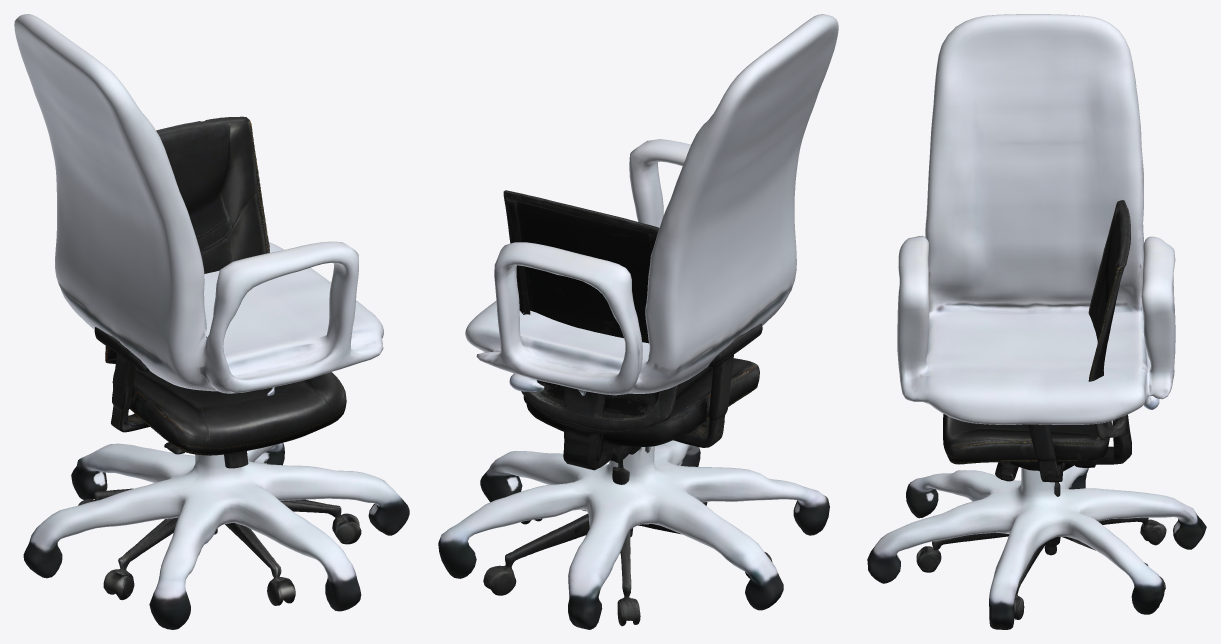
Rendered from image1.glb.
The picture shows the model from 3 angles, left to right: view 1: azimuth 30°, elevation 25°; view 2: azimuth 150°, elevation 25°; view 3: azimuth 270°, elevation 25°; orthographic projection. The views are drawn at different scales.
Visible parts, largest first — view 1: mesh, Mesh_0.001; view 2: mesh, Mesh_0.001; view 3: mesh, Mesh_0.001.
Part boxes in pixels (x1,y1,x2,y2): mesh: (14,14,409,629); Mesh_0.001: (78,116,361,605); mesh: (438,14,838,629); Mesh_0.001: (483,190,772,626); mesh: (867,14,1206,629); Mesh_0.001: (916,200,1166,619).
Size of the model in its own units: 1.81 by 2.87 by 1.81.
Materials: 2 (2 with a texture image).
